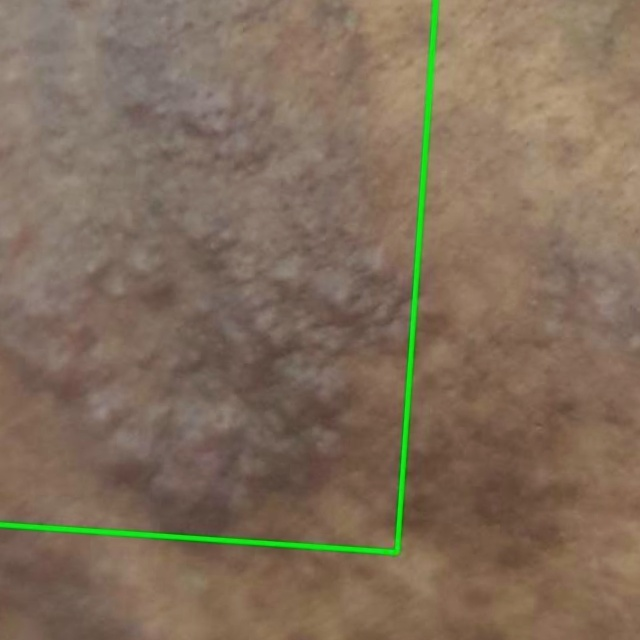Tinea Corporis: (0, 0, 435, 552)
